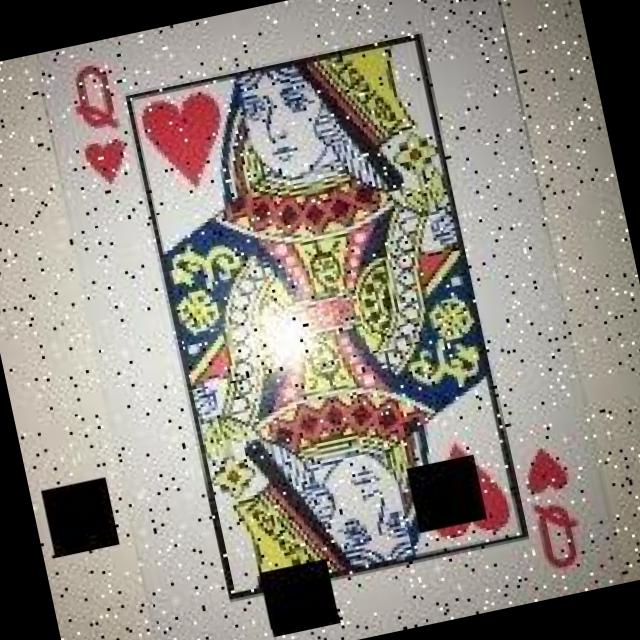Queen of hearts: (39, 0, 599, 640)
